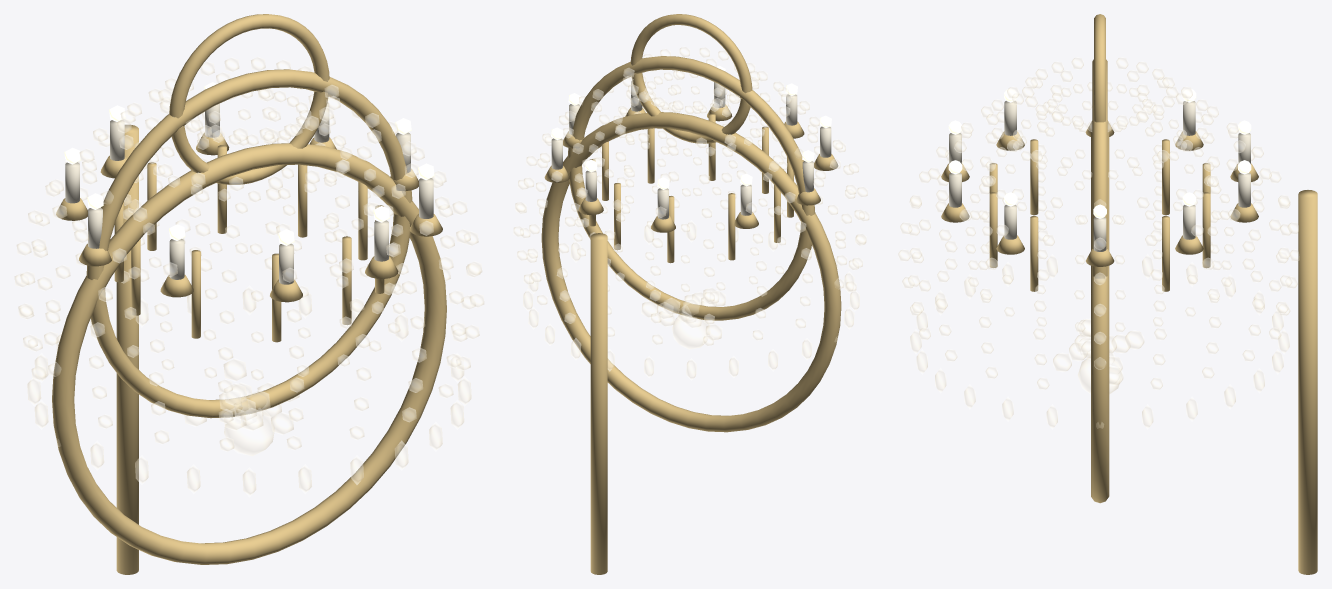
File: chandelier.glb
The picture shows the model from 3 angles, left to right: view 1: azimuth 30°, elevation 25°; view 2: azimuth 150°, elevation 25°; view 3: azimuth 270°, elevation 25°; orthographic projection. The views are drawn at different scales.
Parts seen in each view (by area): view 1: Torus.002, Torus.001, Cone, Torus, Icosphere.350, Cone.025, Cone.019, Cone.001, Cone.004, Cone.016, Cone.022, Cone.021 (+6 smaller); view 2: Torus.002, Torus.001, Cone, Torus, Icosphere.350, Cone.013, Cone.007; view 3: Cone, Torus.002, Torus.001, Torus, Cone.019, Cone.028, Cone.007, Cone.025, Cone.013, Cone.004.
Part boxes in pixels (left/top/right/bottom): Torus.002: left=52, top=143, right=446, bottom=564; Torus.001: left=86, top=69, right=412, bottom=418; Cone: left=116, top=124, right=138, bottom=574; Torus: left=169, top=14, right=329, bottom=184; Icosphere.350: left=224, top=410, right=274, bottom=455; Cone.025: left=342, top=236, right=351, bottom=324; Cone.019: left=191, top=250, right=200, bottom=338; Cone.001: left=358, top=182, right=367, bottom=260; Cone.004: left=298, top=164, right=307, bottom=237; Cone.016: left=131, top=239, right=140, bottom=315; Cone.022: left=272, top=253, right=281, bottom=342; Cone.021: left=169, top=239, right=184, bottom=279; Torus.002: left=541, top=112, right=841, bottom=432; Torus.001: left=567, top=56, right=815, bottom=320; Cone: left=590, top=233, right=607, bottom=574; Torus: left=630, top=14, right=752, bottom=143; Icosphere.350: left=672, top=315, right=710, bottom=349; Cone.013: left=728, top=193, right=735, bottom=260; Cone.007: left=614, top=183, right=620, bottom=250; Cone: left=1298, top=190, right=1317, bottom=574; Torus.002: left=1091, top=121, right=1109, bottom=503; Torus.001: left=1092, top=59, right=1107, bottom=278; Torus: left=1094, top=14, right=1105, bottom=122; Cone.019: left=1030, top=139, right=1038, bottom=215; Cone.028: left=1030, top=216, right=1038, bottom=291; Cone.007: left=1202, top=192, right=1210, bottom=267; Cone.025: left=989, top=192, right=997, bottom=267; Cone.013: left=1162, top=139, right=1169, bottom=215; Cone.004: left=1162, top=216, right=1169, bottom=291.
Bounding box in the file's own units: 2.53 × 3.79 × 2.62.
